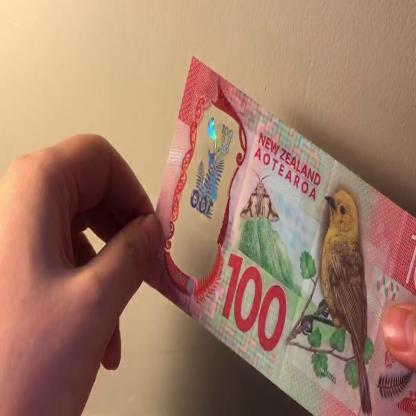100B: (186, 112, 233, 219)
